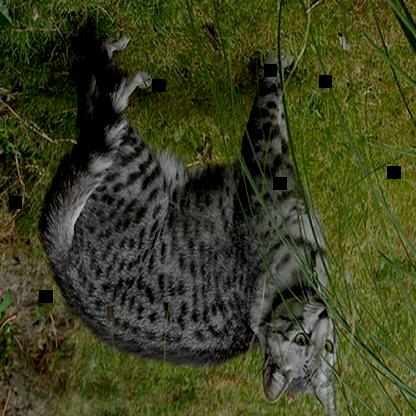cat: (40, 30, 337, 415)
